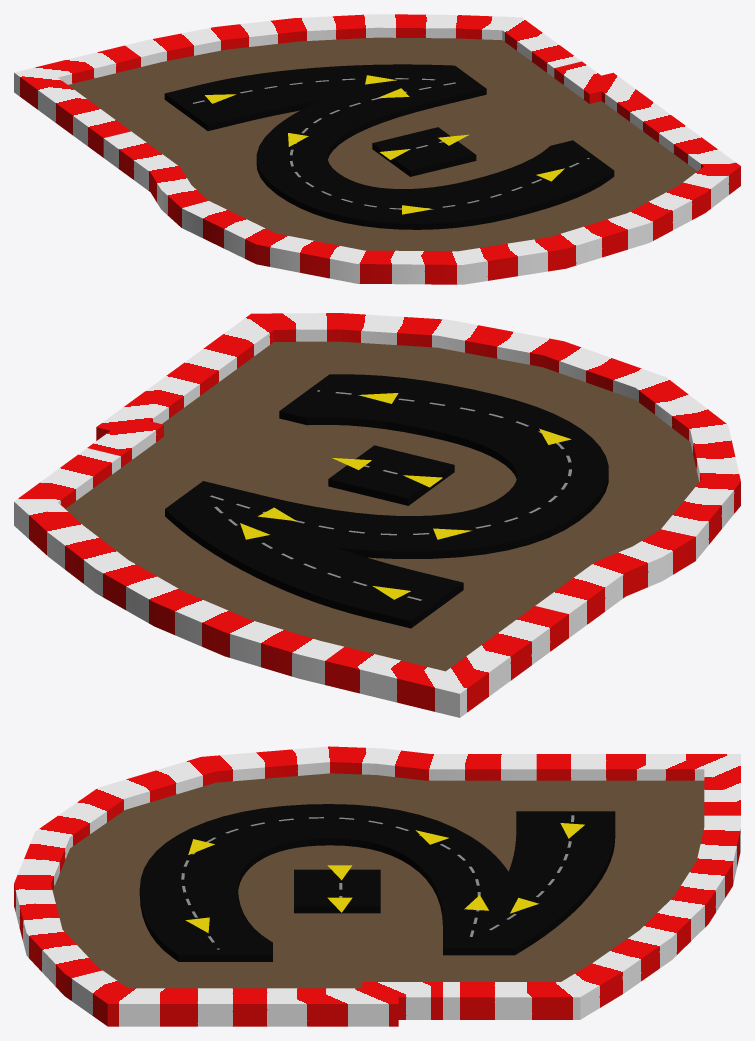
Rendered from jim.FBX.
3 views of the same model, one above another, from view 1: azimuth 30°, elevation 25°; view 2: azimuth 150°, elevation 25°; view 3: azimuth 270°, elevation 25° (orthographic). The views are drawn at different scales.
Parts seen in each view (by area): view 1: jim_floor, jim_coll, jim, line1; view 2: jim_floor, jim_coll, jim, line1; view 3: jim_floor, jim_coll, jim, line1.
Boxes of the visible parts, x1,y1,x2,y2 form: jim_floor: (68, 37, 697, 251); jim_coll: (14, 14, 740, 284); jim: (164, 64, 614, 229); line1: (290, 82, 589, 209); jim_floor: (65, 341, 698, 671); jim_coll: (14, 313, 740, 717); jim: (165, 374, 608, 628); line1: (210, 390, 571, 535); jim_floor: (52, 773, 704, 988); jim_coll: (14, 746, 740, 1026); jim: (139, 804, 615, 961); line1: (181, 817, 480, 949).
Bounding box in the file's own units: 800 × 32.77 × 955.
